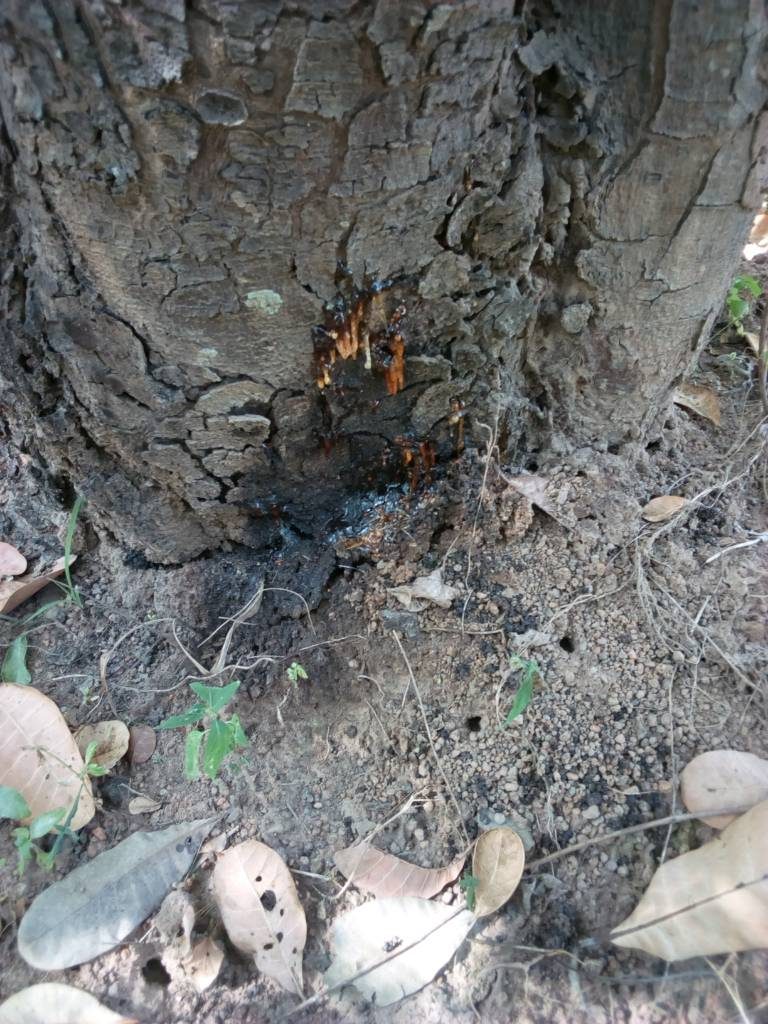Gommose: (265, 250, 474, 571)
